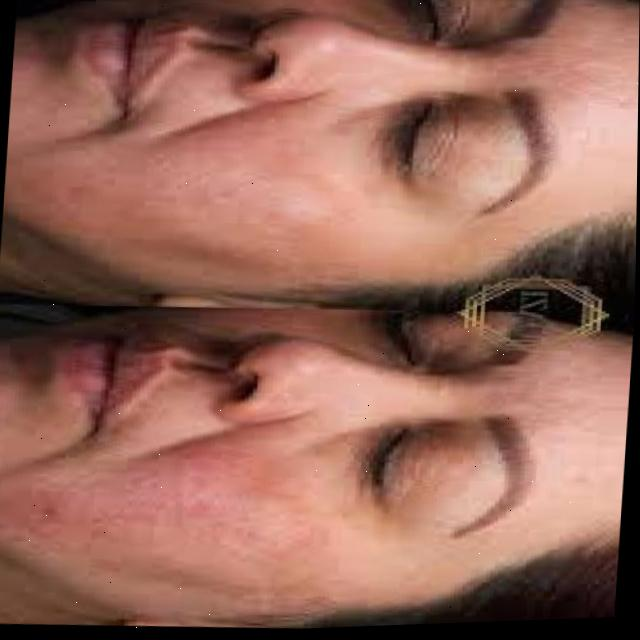Rosacea: (0, 429, 351, 637)
